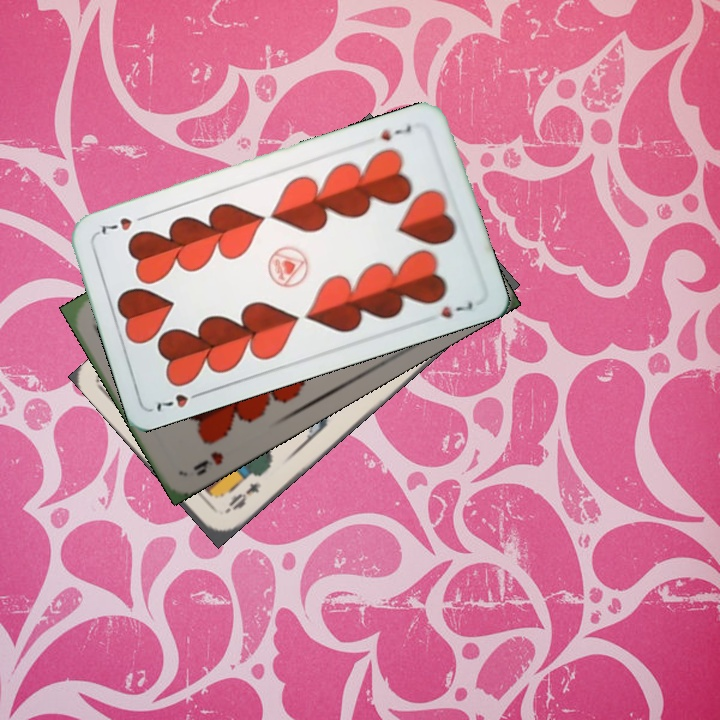EO: (220, 478, 264, 517)
H7: (152, 387, 207, 414), (377, 121, 414, 144)
H9: (188, 447, 226, 479)
